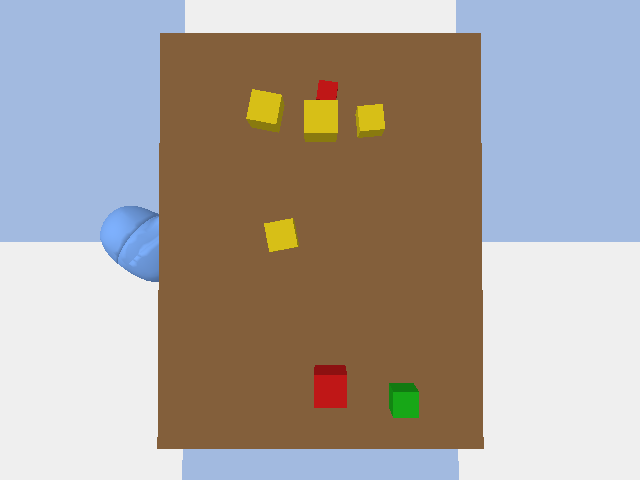green_obj: (389, 383, 418, 417)
red_obj: (314, 365, 346, 407), (316, 80, 337, 99)
yellow_obj: (246, 89, 284, 132), (304, 100, 337, 141), (264, 218, 298, 251), (355, 104, 384, 137)
